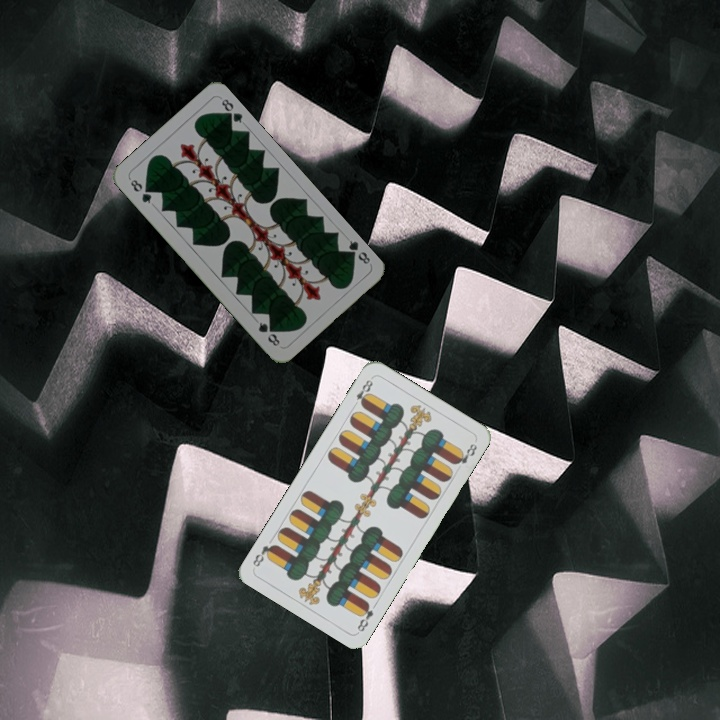E8: (349, 374, 376, 410), (353, 598, 376, 634)
G8: (342, 236, 373, 267), (126, 175, 154, 206)
